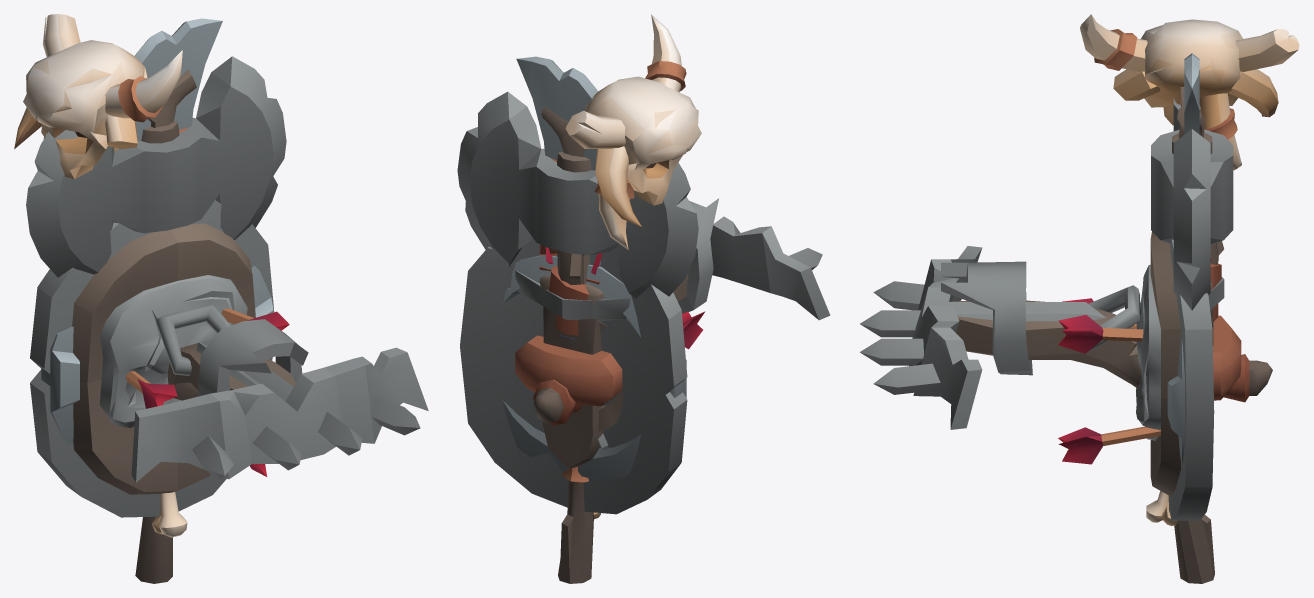
File: skeleton_gear.glb
3 views of the same model, side by side, from view 1: azimuth 30°, elevation 25°; view 2: azimuth 150°, elevation 25°; view 3: azimuth 270°, elevation 25° (orthographic). The views are drawn at different scales.
Parts seen in each view (by area): view 1: Skeleton_Shield_Large_A, Skeleton_Crossbow, Skeleton_Axe, Skeleton_Staff, Skeleton_Blade, Skeleton_Shield_Small_B, Skeleton_Shield_Small_A; view 2: Skeleton_Shield_Large_A, Skeleton_Axe, Skeleton_Staff, Skeleton_Crossbow, Skeleton_Blade, Skeleton_Shield_Small_B, Skeleton_Quiver; view 3: Skeleton_Crossbow, Skeleton_Staff, Skeleton_Shield_Large_A, Skeleton_Axe, Skeleton_Shield_Small_B, Skeleton_Blade, Skeleton_Shield_Small_A.
Boxes of the visible parts, left/top/right/bottom form: Skeleton_Shield_Large_A: left=30, top=200, right=274, bottom=517; Skeleton_Crossbow: left=131, top=304, right=428, bottom=482; Skeleton_Axe: left=26, top=56, right=286, bottom=277; Skeleton_Staff: left=14, top=14, right=196, bottom=583; Skeleton_Blade: left=134, top=18, right=222, bottom=140; Skeleton_Shield_Small_B: left=45, top=267, right=289, bottom=476; Skeleton_Shield_Small_A: left=41, top=266, right=273, bottom=444; Skeleton_Shield_Large_A: left=460, top=236, right=687, bottom=514; Skeleton_Axe: left=457, top=91, right=698, bottom=335; Skeleton_Staff: left=541, top=14, right=701, bottom=583; Skeleton_Crossbow: left=533, top=198, right=830, bottom=425; Skeleton_Blade: left=515, top=56, right=630, bottom=450; Skeleton_Shield_Small_B: left=502, top=255, right=705, bottom=480; Skeleton_Quiver: left=540, top=247, right=604, bottom=468; Skeleton_Crossbow: left=860, top=246, right=1272, bottom=429; Skeleton_Staff: left=1080, top=14, right=1299, bottom=583; Skeleton_Shield_Large_A: left=1136, top=231, right=1241, bottom=520; Skeleton_Axe: left=1151, top=99, right=1233, bottom=321; Skeleton_Shield_Small_B: left=1058, top=298, right=1185, bottom=464; Skeleton_Blade: left=1184, top=53, right=1224, bottom=310; Skeleton_Shield_Small_A: left=1167, top=337, right=1185, bottom=464.
Bounding box in the file's own units: 1.11 × 2.1 × 1.51.
Materials: 1 (1 with a texture image).
